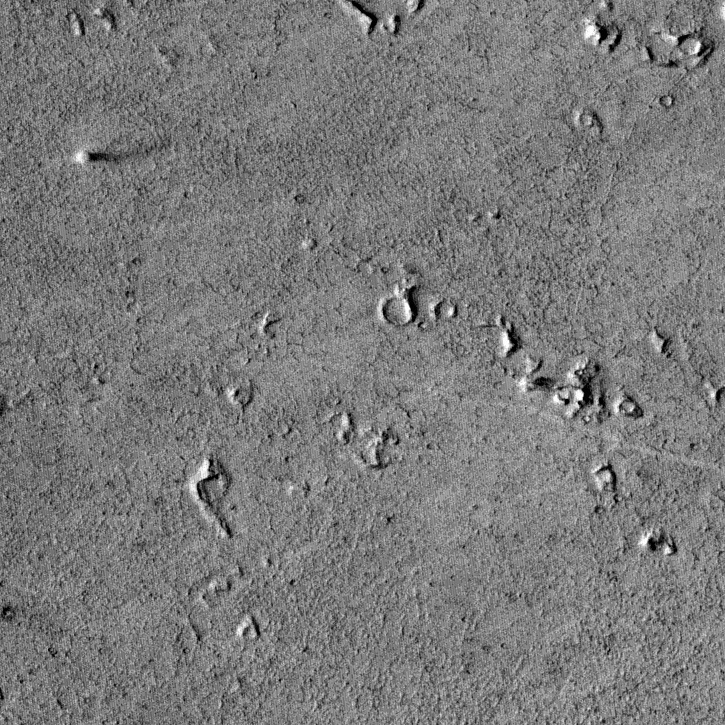dust_devil: (73, 137, 173, 164)
